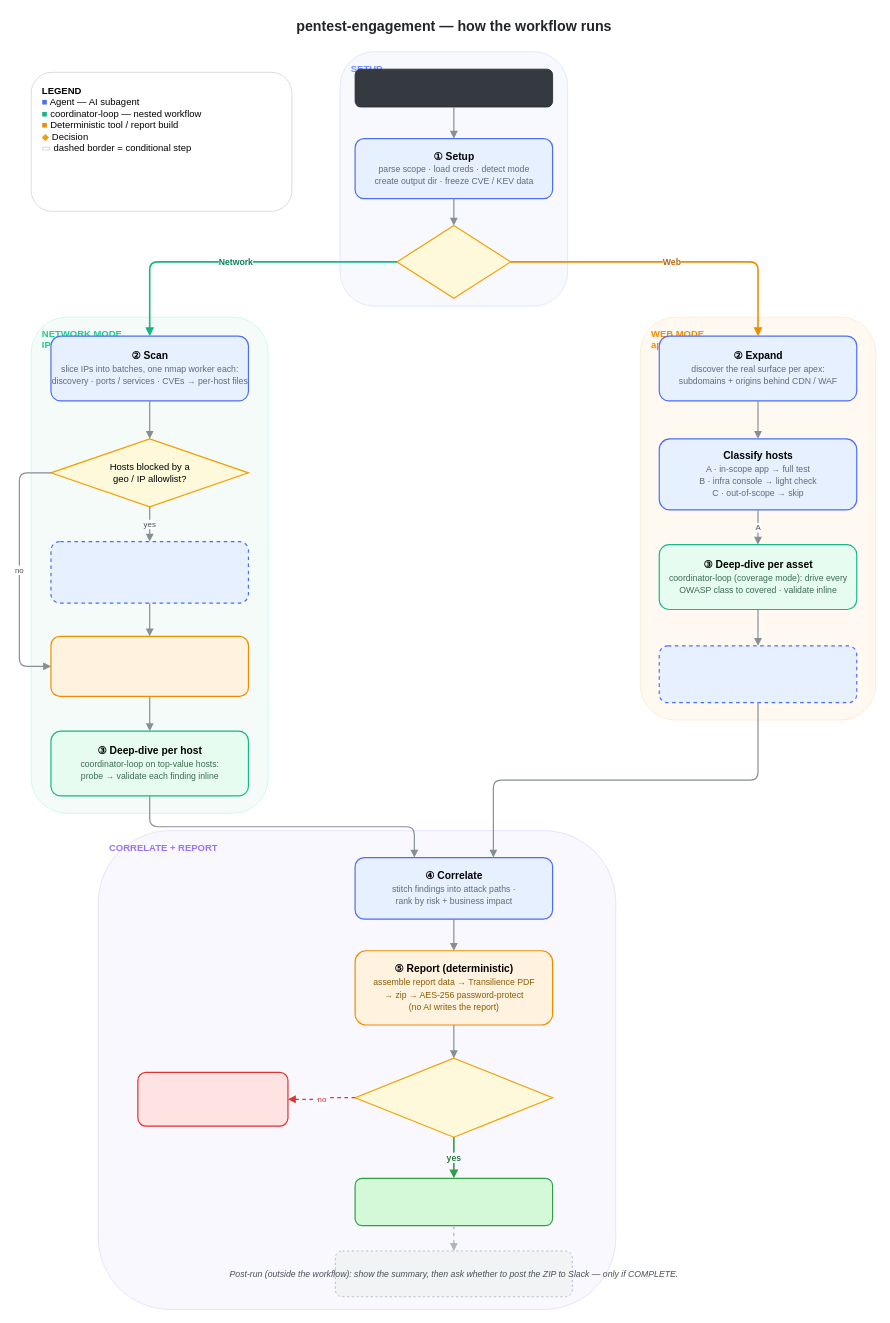
This 890x1323 diagram has some shape labels left out. Here are the shapes that lost their labels. From the top down, the centre of each, then its label:
At (x=453, y=87): "START Workflow('pentest-engagement', input)".
At (x=453, y=261): "Web or Network?".
At (x=149, y=572): "GeoProbe spin up a VM in another region, re-scan the blocked hosts, tear it down".
At (x=149, y=666): "Inventory + rank merge all host data · rank app-bearing hosts by severity".
At (x=757, y=674): "Infra check light unauthenticated fingerprint of admin consoles".
At (x=212, y=1098): "BLOCKED coverage or render incomplete".
At (x=453, y=1097): "Report built + 100% coverage?".
At (x=453, y=1201): "DONE deliverable ZIP + password + summary".
